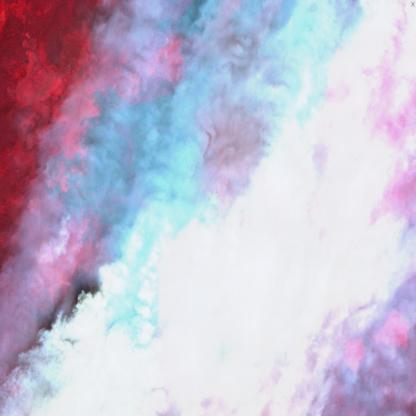fire: (45, 188, 168, 361), (270, 0, 368, 160)
